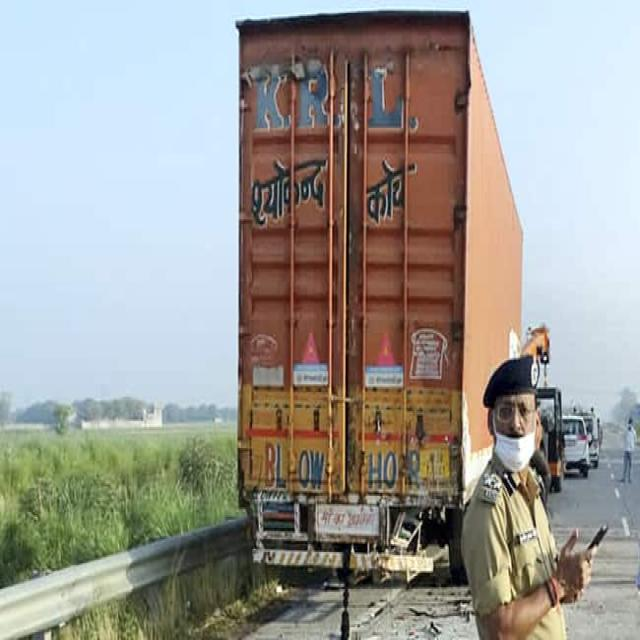truck: (238, 12, 522, 582)
